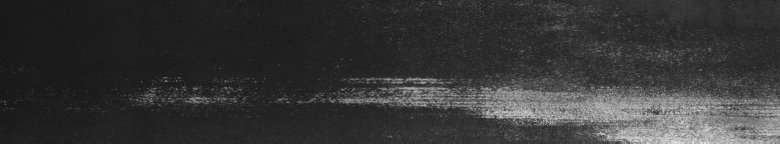kb: (372, 12, 776, 136)
